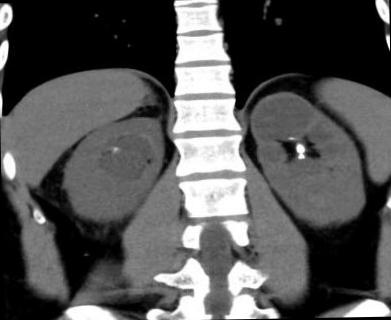Tas_Var: (294, 143, 306, 153), (110, 145, 120, 153), (295, 154, 307, 160), (286, 136, 297, 142)
